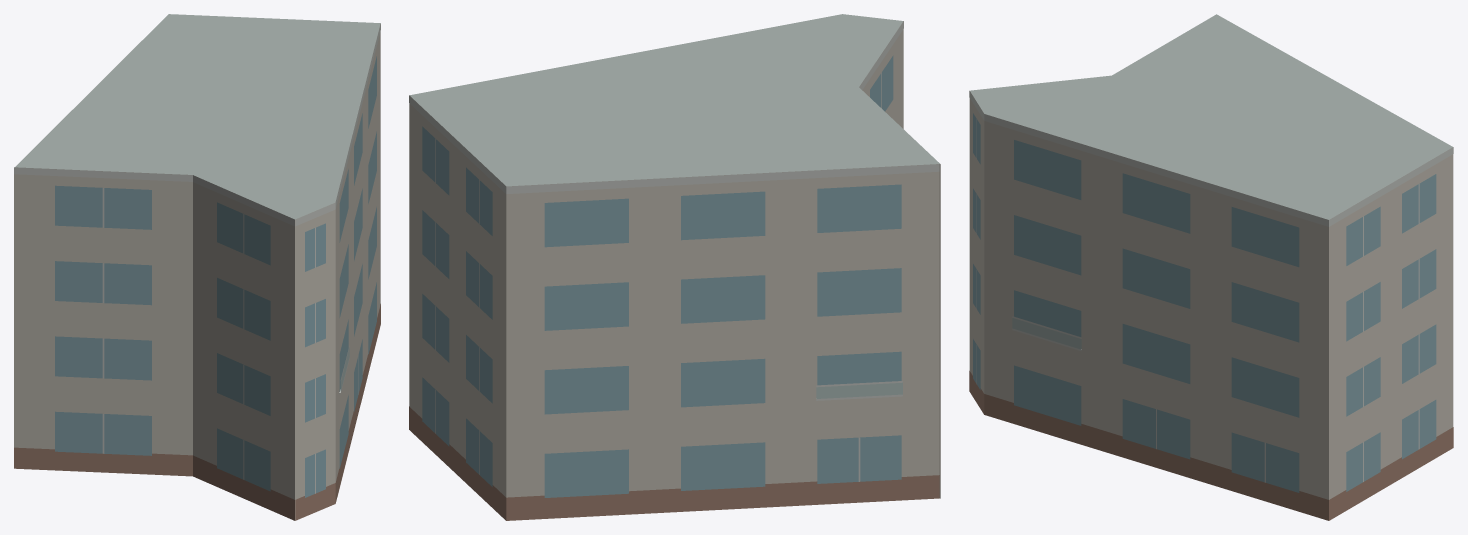
The model's file is survey-upis-32946768.glb.
The picture shows the model from 3 angles, left to right: view 1: azimuth 30°, elevation 25°; view 2: azimuth 150°, elevation 25°; view 3: azimuth 270°, elevation 25°; orthographic projection. The views are drawn at different scales.
Visible parts, largest first — view 1: survey-upis-32946768.tmp; view 2: survey-upis-32946768.tmp; view 3: survey-upis-32946768.tmp.
Part boxes in pixels (x1,y1,x2,y2): survey-upis-32946768.tmp: [14, 14, 380, 520]; survey-upis-32946768.tmp: [409, 14, 940, 520]; survey-upis-32946768.tmp: [969, 14, 1453, 520].
Bounding box in the file's own units: 15.42 × 10.5 × 15.31.
